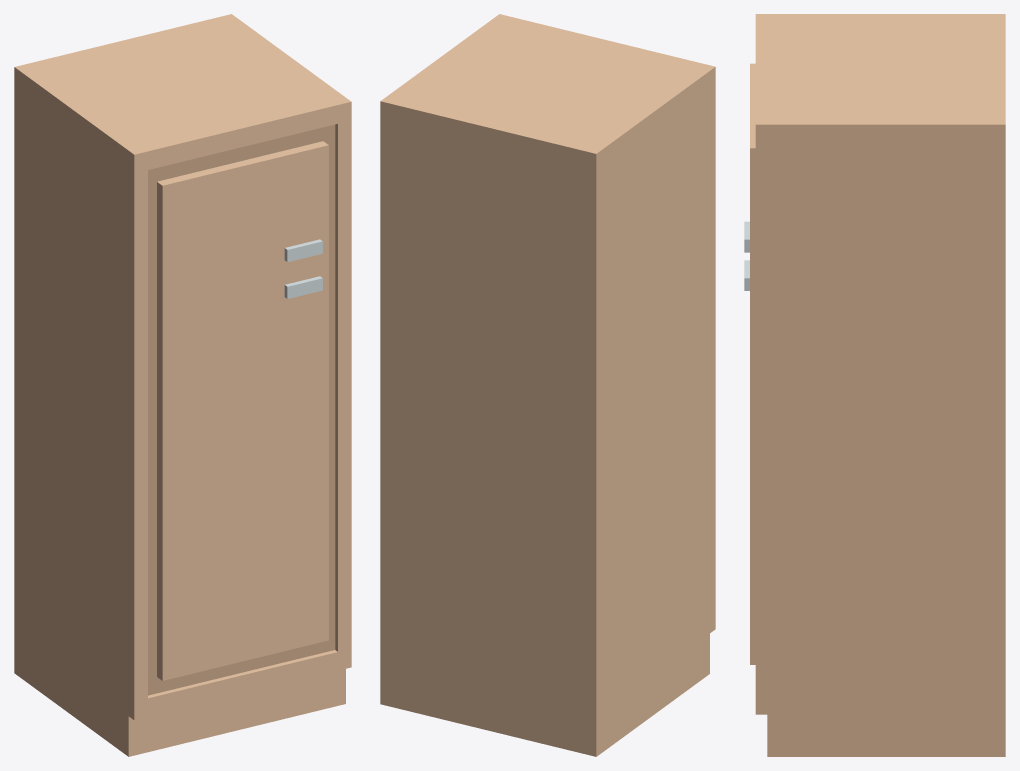
The model's file is kk-kitchenFridgeBuiltIn.glb.
The picture shows the model from 3 angles, left to right: view 1: azimuth 30°, elevation 25°; view 2: azimuth 150°, elevation 25°; view 3: azimuth 270°, elevation 25°; orthographic projection. The views are drawn at different scales.
Parts seen in each view (by area): view 1: kitchenFridgeBuiltIn(Clone), doorFreezer; view 2: kitchenFridgeBuiltIn(Clone); view 3: kitchenFridgeBuiltIn(Clone).
Boxes of the visible parts, bbox=[...] form: kitchenFridgeBuiltIn(Clone): bbox=[14, 14, 351, 756]; doorFreezer: bbox=[284, 239, 322, 298]; kitchenFridgeBuiltIn(Clone): bbox=[380, 14, 715, 756]; kitchenFridgeBuiltIn(Clone): bbox=[750, 14, 1005, 756].
Size of the model in its own units: 0.375 by 1 by 0.375.
